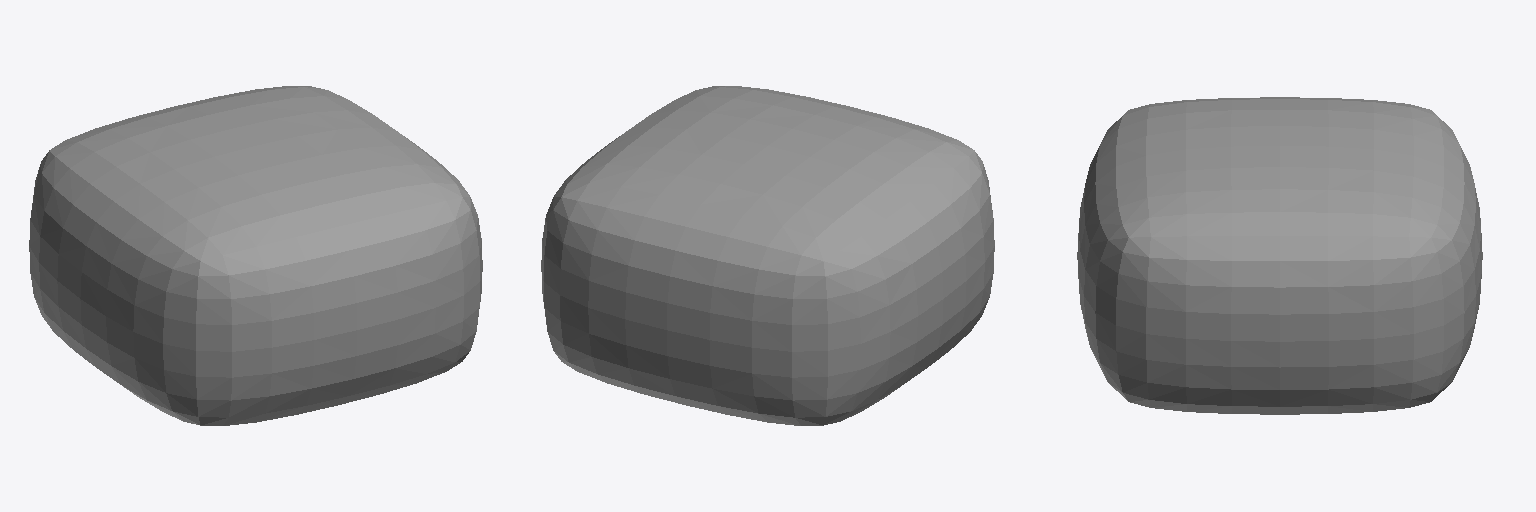
File: sky.obj
3 renders of one model, left to right at view 1: azimuth 30°, elevation 25°; view 2: azimuth 150°, elevation 25°; view 3: azimuth 270°, elevation 25°, orthographic.
Parts seen in each view (by area): view 1: Cube.001; view 2: Cube.001; view 3: Cube.001.
Boxes of the visible parts, <box> form: Cube.001: <box>29,86,482,425</box>; Cube.001: <box>541,86,994,425</box>; Cube.001: <box>1077,97,1482,414</box>.
Bounding box in the file's own units: 10000 × 6000 × 10000.